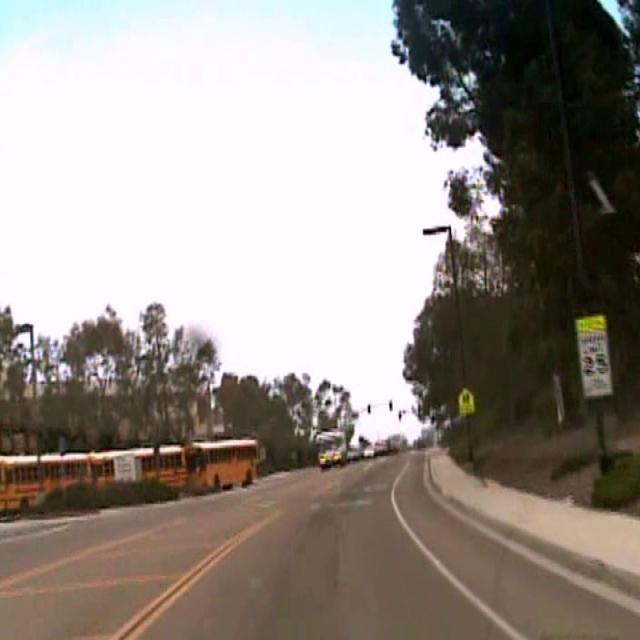speedLimit25: (574, 313, 614, 399)
